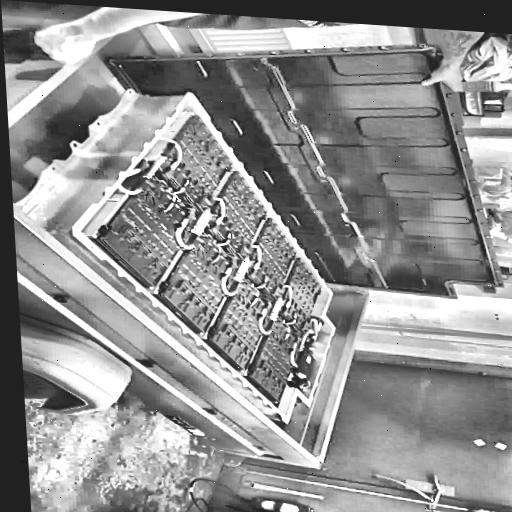b_casing: (105, 46, 503, 300)
high_volt_cable: (106, 159, 151, 198), (152, 134, 186, 175), (198, 192, 231, 231), (171, 209, 200, 253), (218, 263, 244, 299), (244, 238, 269, 275), (254, 305, 279, 339), (284, 334, 304, 370), (278, 282, 298, 315), (306, 316, 323, 339)
